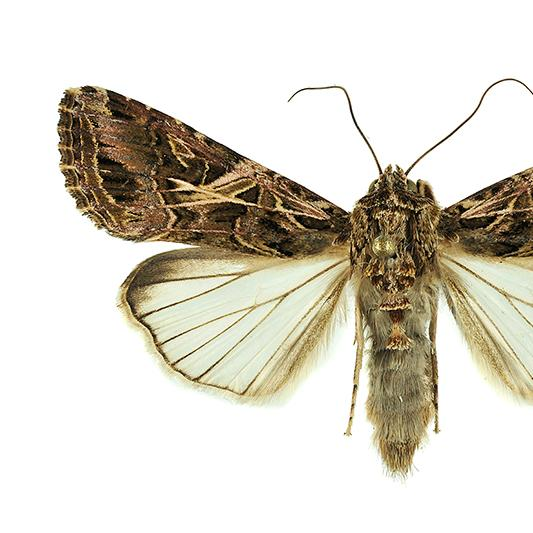Spodoptera litura: (57, 78, 533, 484)
